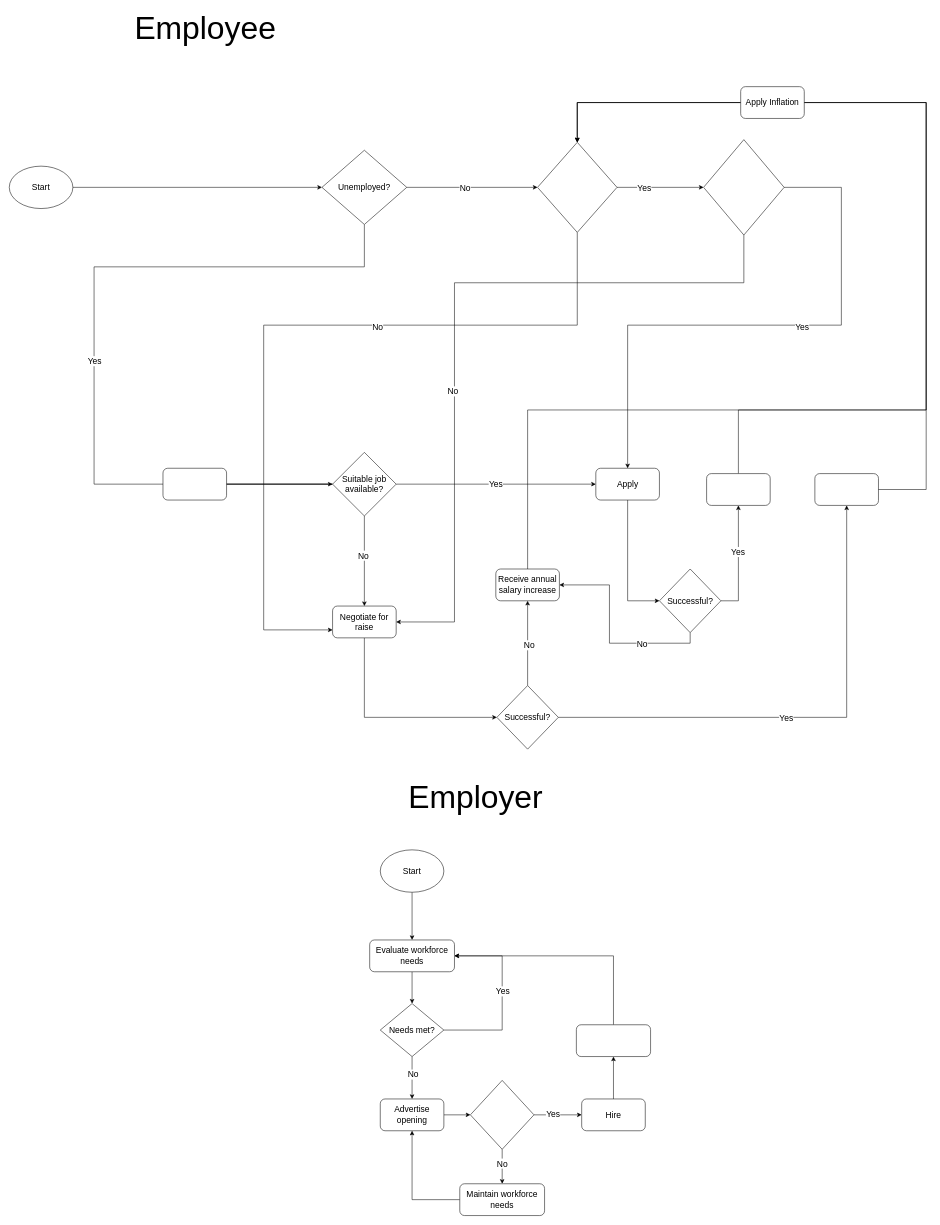
This 940x1225 diagram has some shape labels left out. Each missing label, with the centre of its shape:
"Evaluate available jobs" belongs at pixel 194 484.
"Salary Increase > Tipping Point" belongs at pixel 743 187.
"Suitable hire found?" belongs at pixel 502 1114.
"Switch jobs & update salary" belongs at pixel 738 489.
"Tend to stay?" belongs at pixel 577 187.
"Update number of employees" belongs at pixel 613 1040.
"Update salary with raise" belongs at pixel 846 489.
